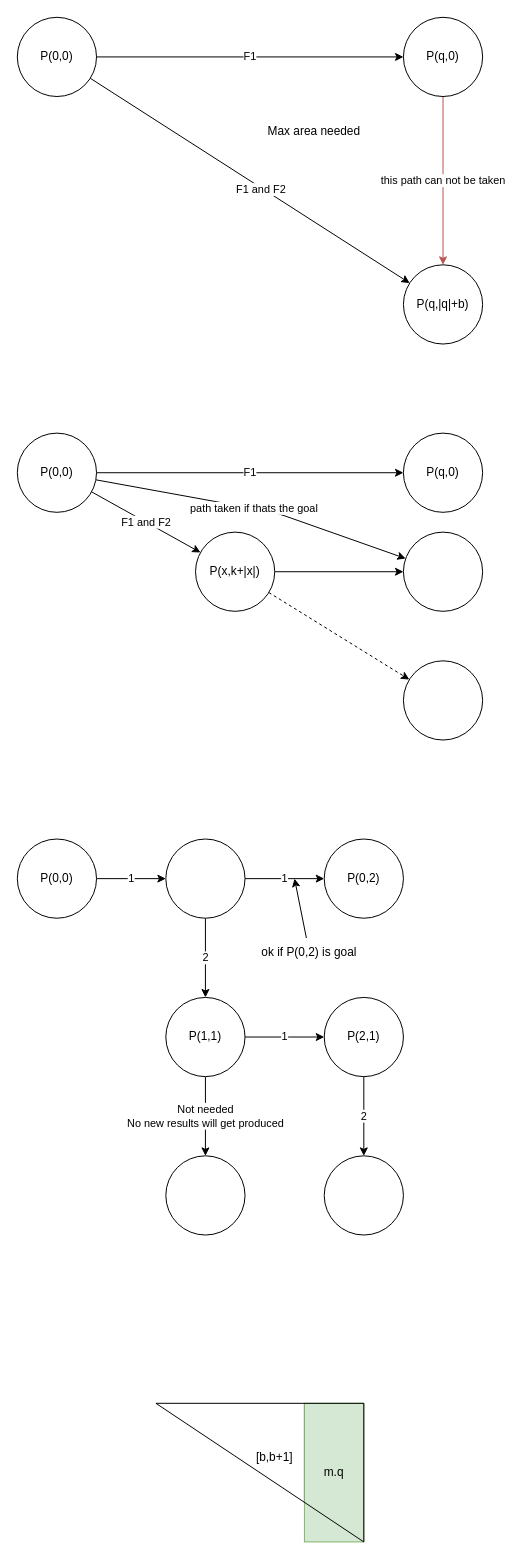
The diagram is 523 pixels wide and 1560 high, and some of its shapes have lost their labels. Each missing label, with the centre of its shape:
P(0,1): pixel 205 878
P(1,2): pixel 205 1195
P(2,2): pixel 363 1195
P(q,b+|q|): pixel 442 700
P(q,k+|q|): pixel 442 571
